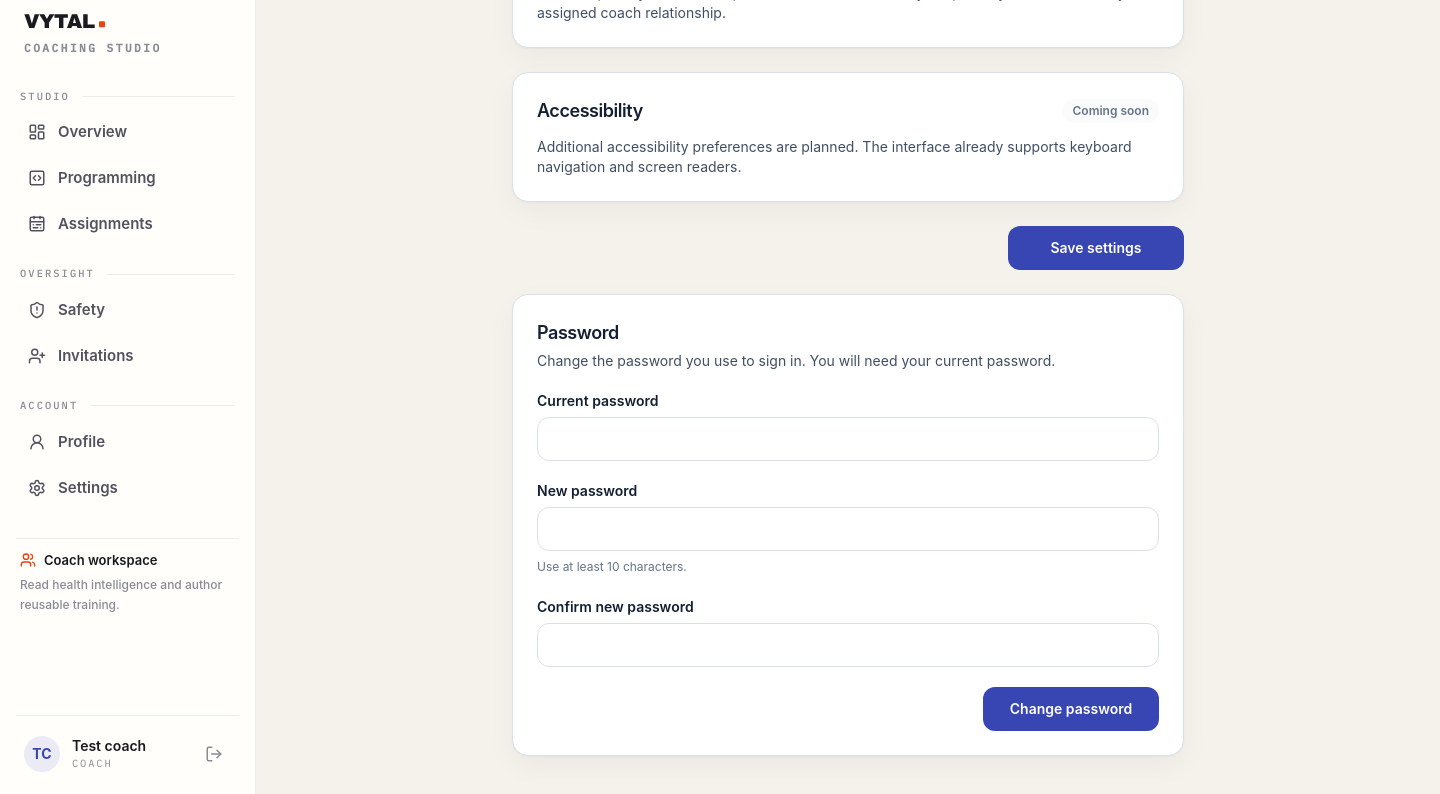
Test: changes the password and posts the current and new values
(page scrolled)
Type "CoachPass123!" into the password field labelled "Current password" at (848, 439), box [537,417,1159,461]
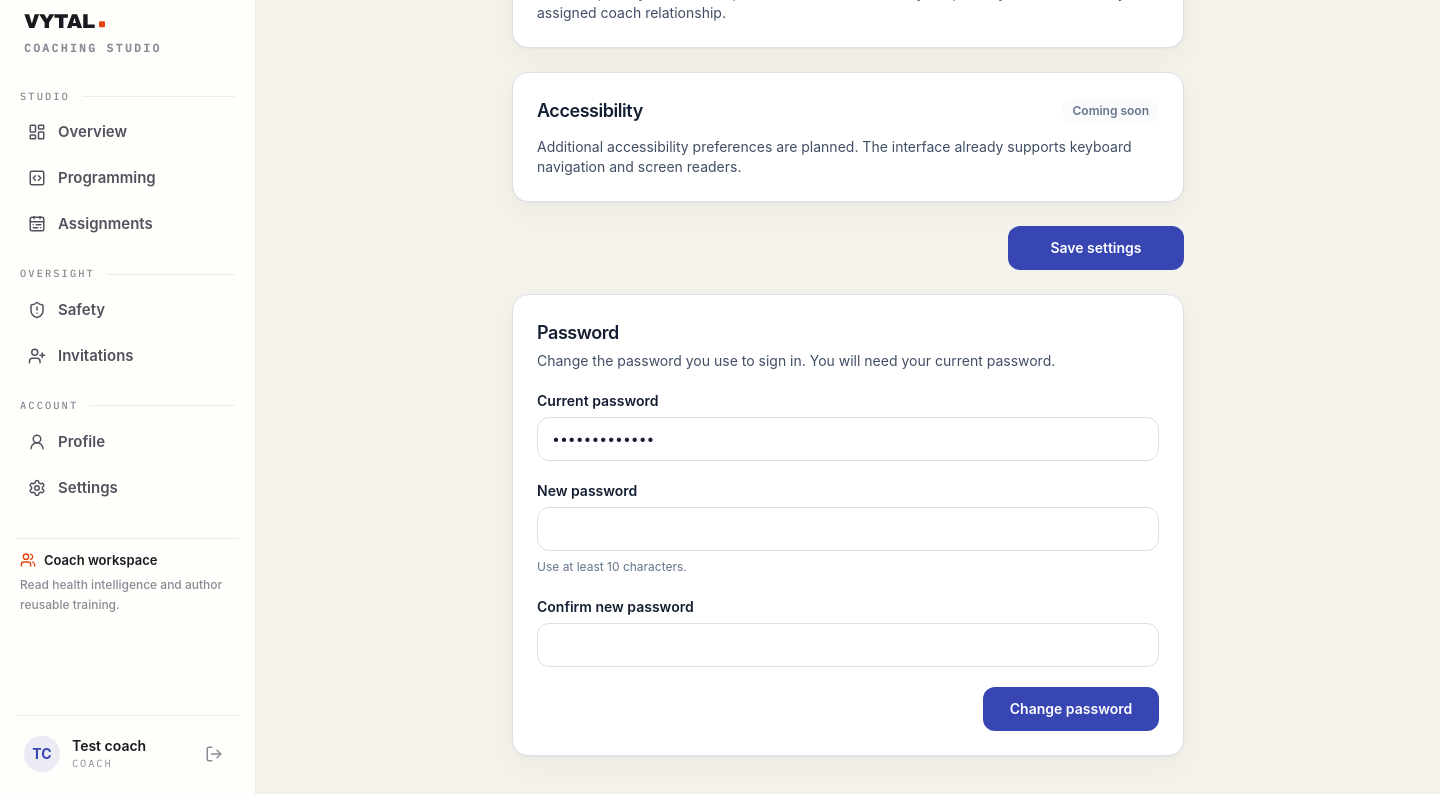
Type "BrandNewPass1" into the password field labelled "New password" at (848, 529), box [537,507,1159,551]
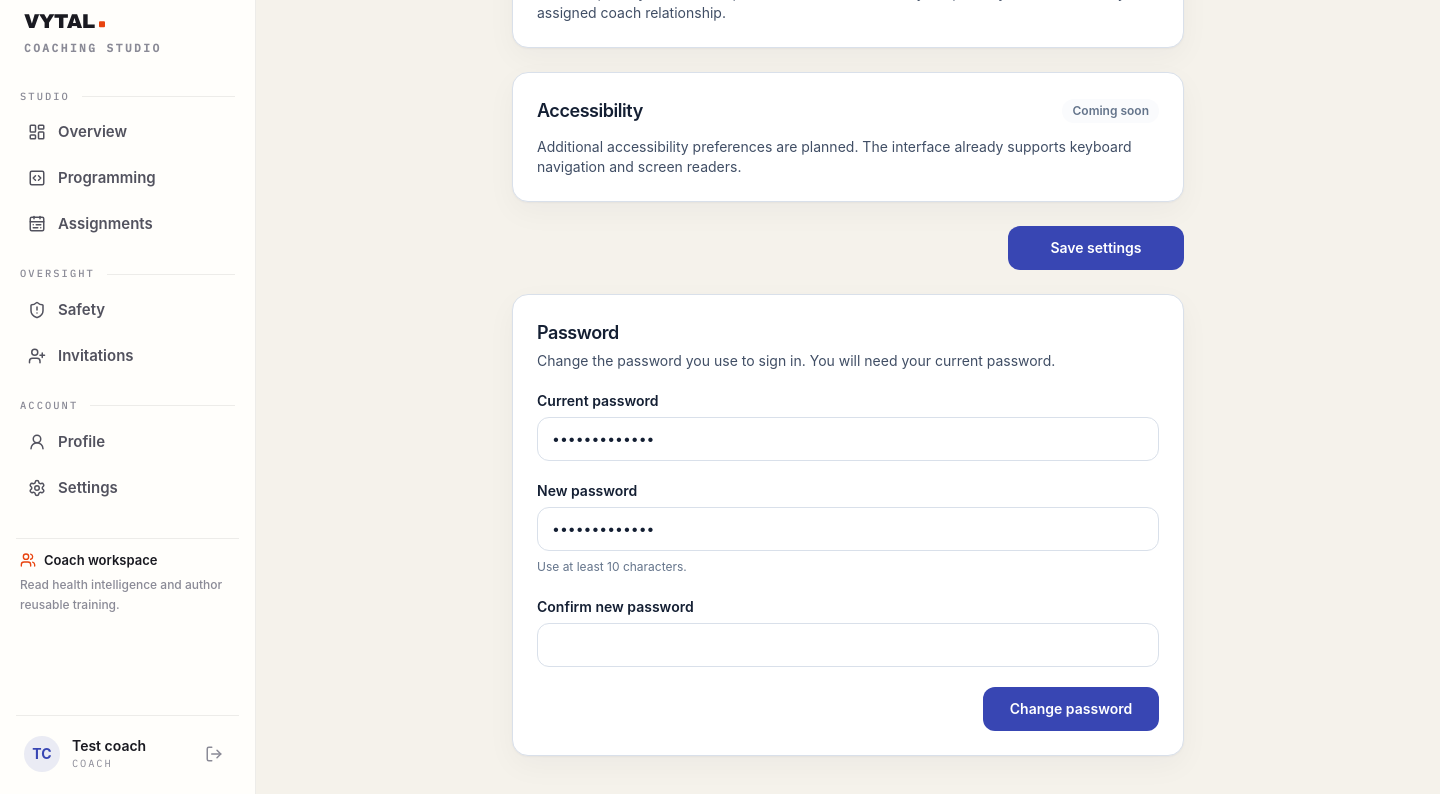
Type "BrandNewPass1" into the password field labelled "Confirm new password" at (848, 645), box [537,623,1159,667]
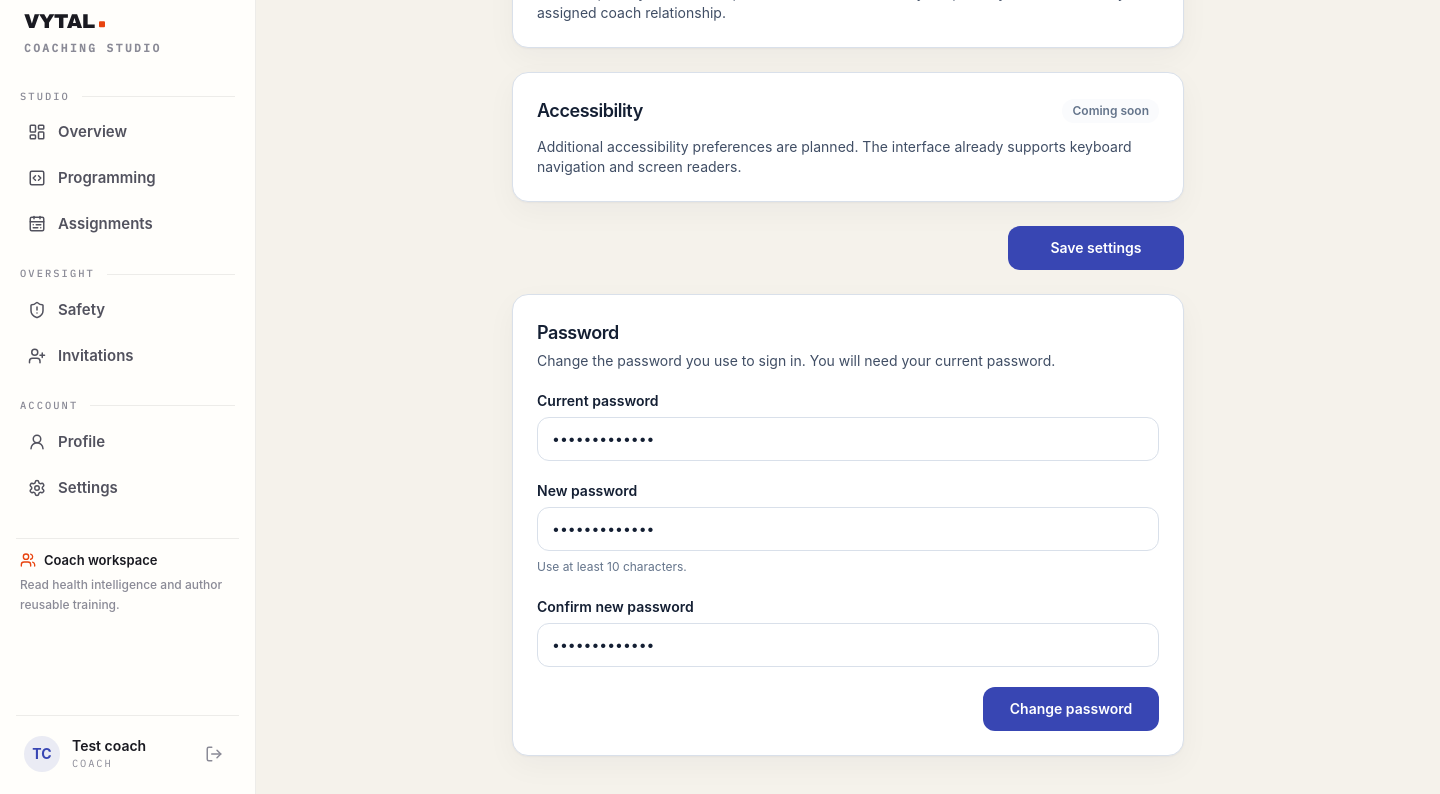
Click the button "Change password" at (1071, 709), box [983,687,1159,731]
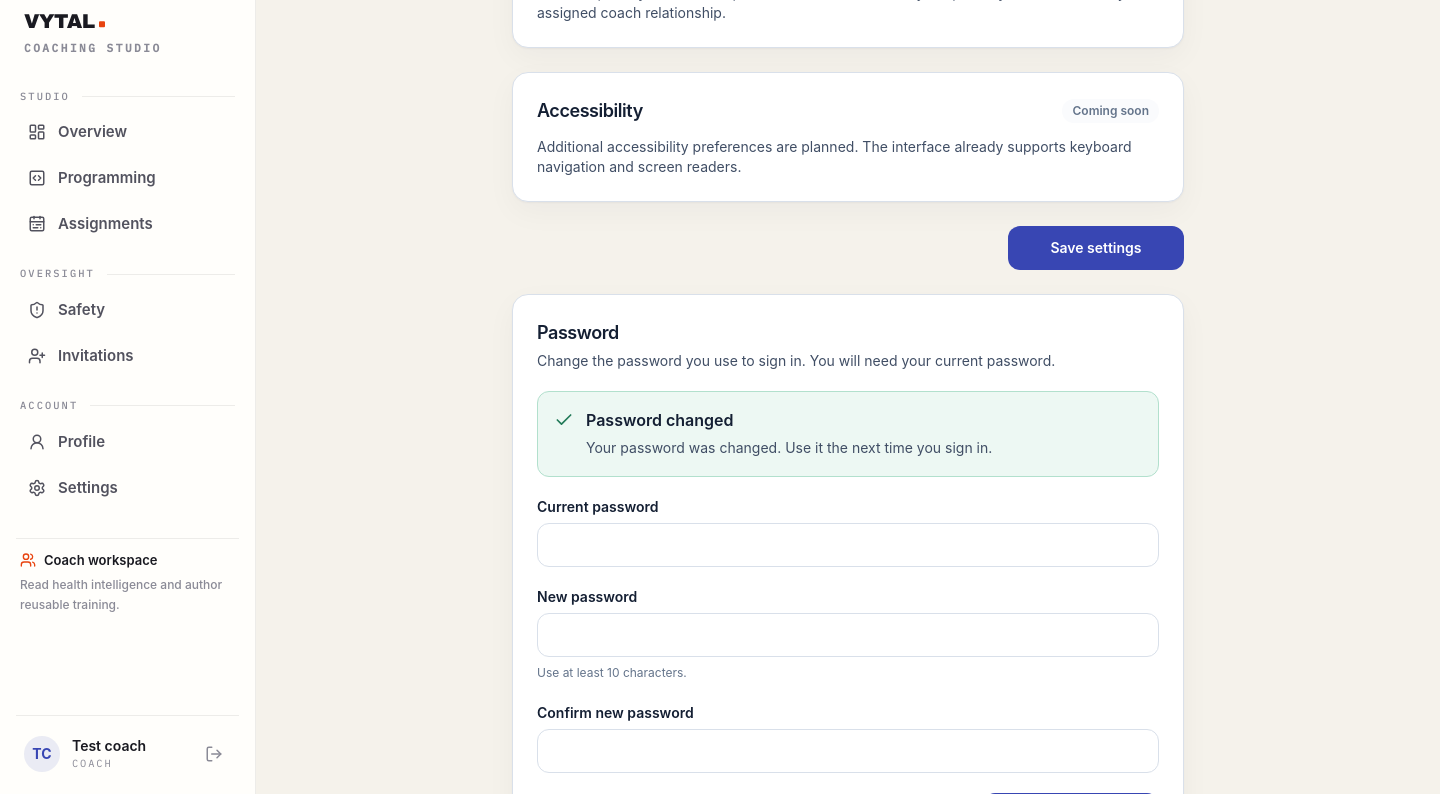
Check: the text "Your password was changed. Use it the next time you sign in." is shown, box [586,439,992,456]
